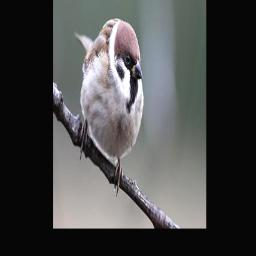Sparrow: (75, 16, 144, 195)
